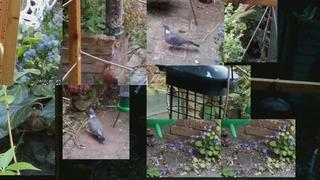wood pigeon: (161, 24, 200, 50), (88, 109, 105, 142)
